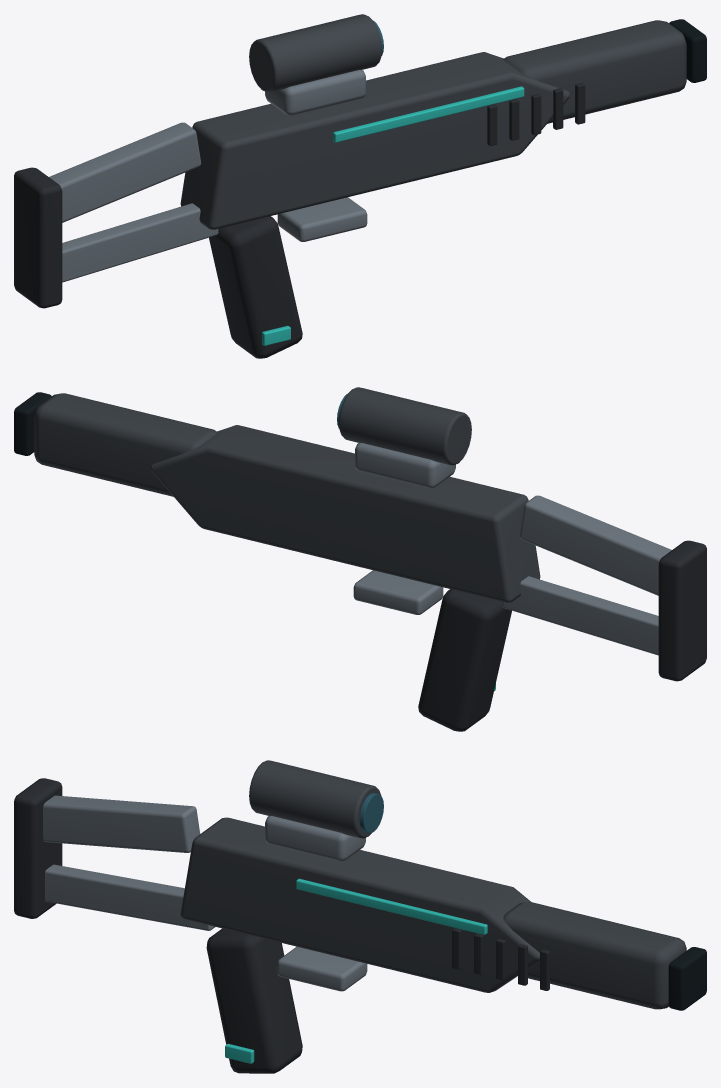
The picture shows the model from 3 angles, top to bottom: view 1: azimuth 30°, elevation 25°; view 2: azimuth 150°, elevation 25°; view 3: azimuth 330°, elevation 25°; orthographic projection.
Parts seen in each view (by area): view 1: R01__Streamlined_body, R01__Long_forebody, R01__Grip, R01__Rear_upper, R01__Integrated_optic, R01__Rear_pad, R01__Rear_lower, R01__Optic_bridge, R01__Lower_guard, R01__Teal_spine, R01, R01__Closed_end; view 2: R01__Streamlined_body, R01__Long_forebody, R01__Grip, R01__Rear_upper, R01__Integrated_optic, R01__Rear_pad, R01__Rear_lower, R01__Optic_bridge, R01__Lower_guard, R01__Closed_end; view 3: R01__Streamlined_body, R01__Long_forebody, R01__Grip, R01__Rear_upper, R01__Integrated_optic, R01__Rear_lower, R01__Rear_pad, R01__Optic_bridge, R01__Lower_guard, R01__Teal_spine, R01__Closed_end, R01 (+1 smaller).
Boxes of the visible parts, x1=… form: R01__Streamlined_body: x1=180, y1=52, x2=570, y2=229; R01__Long_forebody: x1=503, y1=20, x2=686, y2=123; R01__Grip: x1=209, y1=216, x2=302, y2=358; R01__Rear_upper: x1=49, y1=122, x2=201, y2=222; R01__Integrated_optic: x1=249, y1=14, x2=381, y2=92; R01__Rear_pad: x1=14, y1=167, x2=62, y2=308; R01__Rear_lower: x1=62, y1=203, x2=218, y2=282; R01__Optic_bridge: x1=265, y1=70, x2=365, y2=115; R01__Lower_guard: x1=277, y1=197, x2=367, y2=241; R01__Teal_spine: x1=333, y1=86, x2=524, y2=142; R01: x1=487, y1=83, x2=585, y2=145; R01__Closed_end: x1=669, y1=19, x2=706, y2=82; R01__Streamlined_body: x1=150, y1=425, x2=540, y2=602; R01__Long_forebody: x1=34, y1=393, x2=217, y2=496; R01__Grip: x1=418, y1=589, x2=511, y2=731; R01__Rear_upper: x1=519, y1=495, x2=671, y2=595; R01__Integrated_optic: x1=339, y1=387, x2=471, y2=465; R01__Rear_pad: x1=658, y1=540, x2=706, y2=681; R01__Rear_lower: x1=502, y1=576, x2=658, y2=655; R01__Optic_bridge: x1=355, y1=443, x2=455, y2=488; R01__Lower_guard: x1=353, y1=570, x2=443, y2=614; R01__Closed_end: x1=14, y1=392, x2=51, y2=455; R01__Streamlined_body: x1=180, y1=817, x2=539, y2=992; R01__Long_forebody: x1=503, y1=902, x2=686, y2=1009; R01__Grip: x1=206, y1=928, x2=302, y2=1073; R01__Rear_upper: x1=43, y1=795, x2=200, y2=852; R01__Integrated_optic: x1=249, y1=760, x2=381, y2=838; R01__Rear_lower: x1=45, y1=864, x2=215, y2=930; R01__Rear_pad: x1=14, y1=778, x2=62, y2=918; R01__Optic_bridge: x1=265, y1=816, x2=365, y2=861; R01__Lower_guard: x1=277, y1=946, x2=367, y2=991; R01__Teal_spine: x1=296, y1=878, x2=487, y2=934; R01__Closed_end: x1=668, y1=947, x2=706, y2=1010; R01: x1=452, y1=928, x2=549, y2=990.
Bounding box in the file's own units: 0.9895 × 0.4328 × 0.0935.
